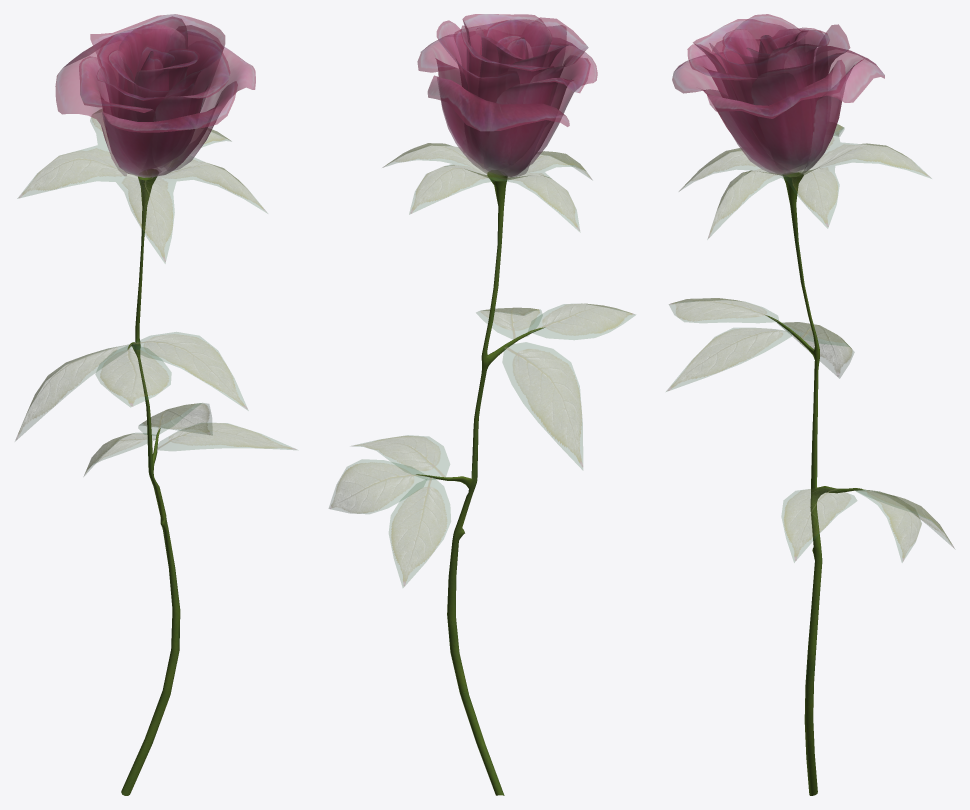
File: preview.glb
3 views of the same model, side by side, from view 1: azimuth 30°, elevation 25°; view 2: azimuth 150°, elevation 25°; view 3: azimuth 270°, elevation 25° (orthographic). The views are drawn at different scales.
Parts seen in each view (by area): view 1: Flower_Rosa_gallica_C_Leaf_glb, Flower_Rosa_gallica_C_Flower_glb, Flower_Rosa_gallica_C_Stem_glb; view 2: Flower_Rosa_gallica_C_Leaf_glb, Flower_Rosa_gallica_C_Flower_glb, Flower_Rosa_gallica_C_Stem_glb; view 3: Flower_Rosa_gallica_C_Flower_glb, Flower_Rosa_gallica_C_Leaf_glb, Flower_Rosa_gallica_C_Stem_glb.
Boxes of the visible parts, <box> form: Flower_Rosa_gallica_C_Leaf_glb: <box>15,109,296,475</box>; Flower_Rosa_gallica_C_Flower_glb: <box>55,14,255,178</box>; Flower_Rosa_gallica_C_Stem_glb: <box>121,169,180,795</box>; Flower_Rosa_gallica_C_Leaf_glb: <box>329,143,635,587</box>; Flower_Rosa_gallica_C_Flower_glb: <box>417,14,597,178</box>; Flower_Rosa_gallica_C_Stem_glb: <box>416,170,544,795</box>; Flower_Rosa_gallica_C_Flower_glb: <box>672,14,884,176</box>; Flower_Rosa_gallica_C_Leaf_glb: <box>666,124,954,562</box>; Flower_Rosa_gallica_C_Stem_glb: <box>765,172,864,795</box>.
Size of the model in its own units: 0.16 by 0.4487 by 0.153.
Materials: 3 (3 with a texture image).
